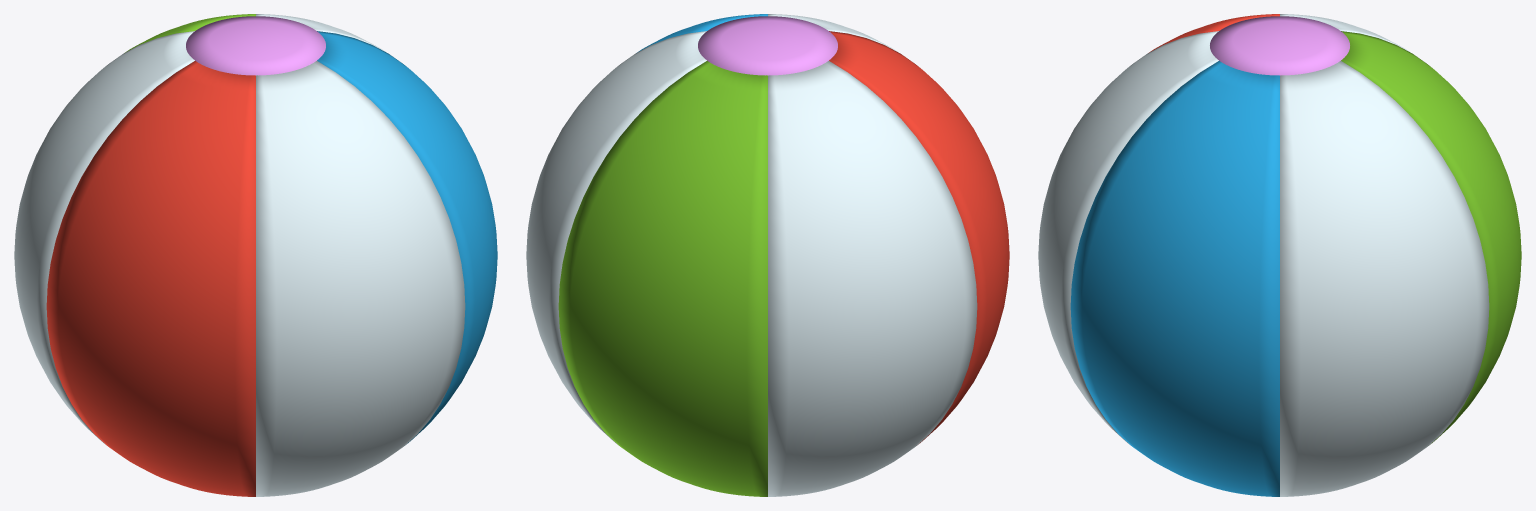
The model's file is Ball.gltf.
3 renders of one model, left to right at view 1: azimuth 30°, elevation 25°; view 2: azimuth 150°, elevation 25°; view 3: azimuth 270°, elevation 25°, orthographic.
Visible parts, largest first — view 1: ball; view 2: ball; view 3: ball.
Part boxes in pixels (x1,y1,x2,y2): ball: (14, 14, 497, 496); ball: (526, 14, 1009, 496); ball: (1038, 14, 1521, 496).
Bounding box in the file's own units: 1 × 1 × 1.
